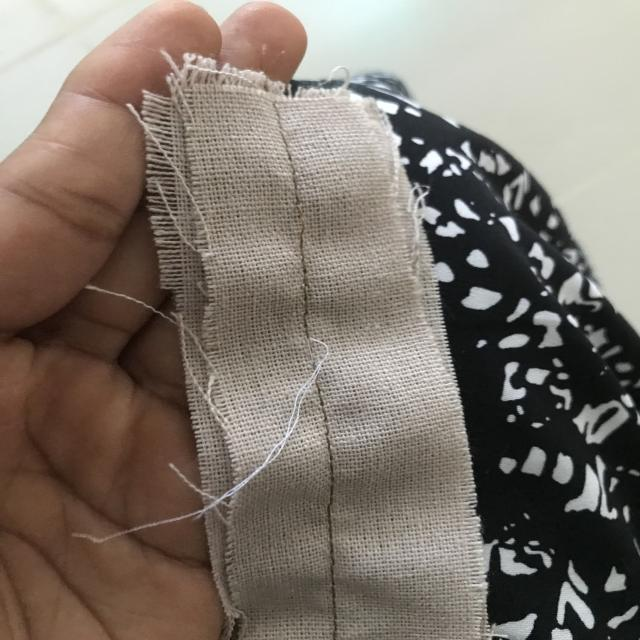skip: (280, 202, 318, 250)
